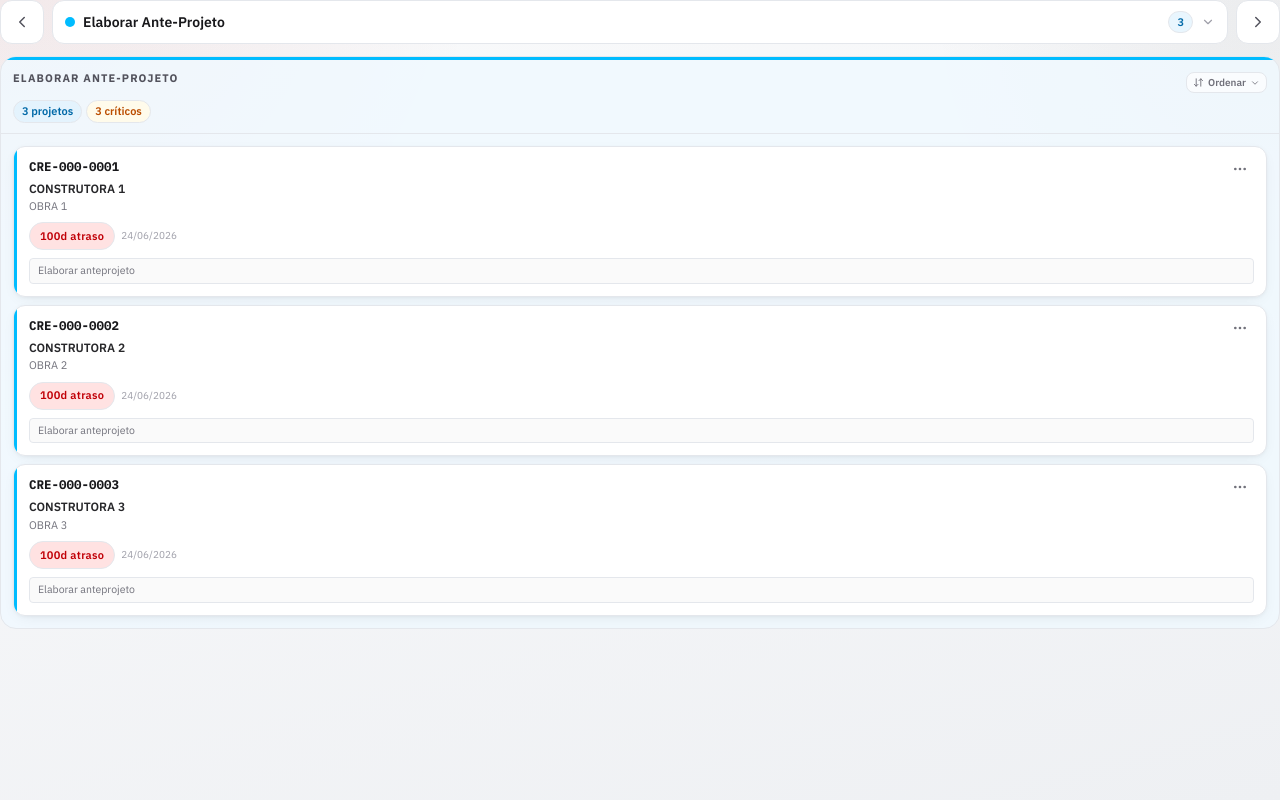
it: Kanban no celular — estados vazios › etapa vazia com projetos em outras: mensagem própria, sem Limpar filtros
The image size is (1280, 800).
Click the button with aria-label "Etapa: ". click: (154, 22)
box: [52,0,1228,44]
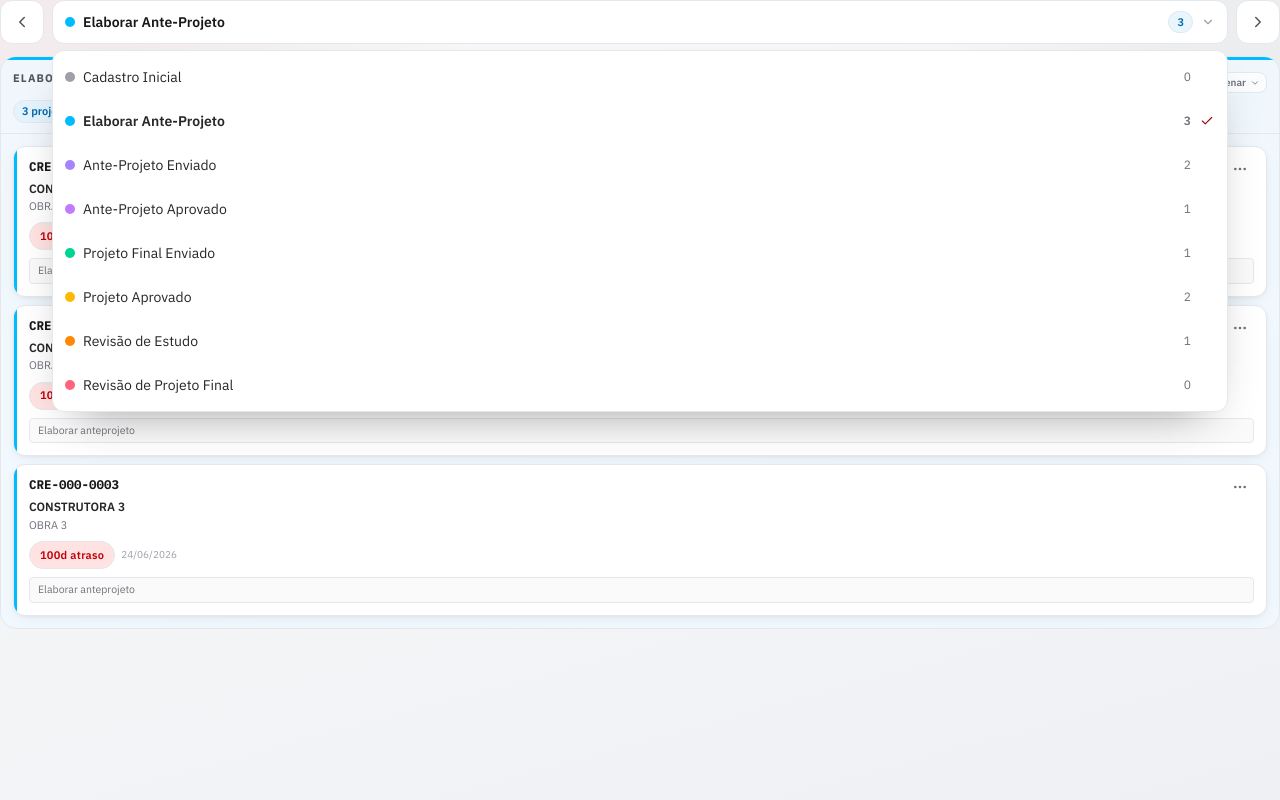
Click the menu item "Cadastro Inicial 0". click: (132, 77)
box: [65,68,1191,86]
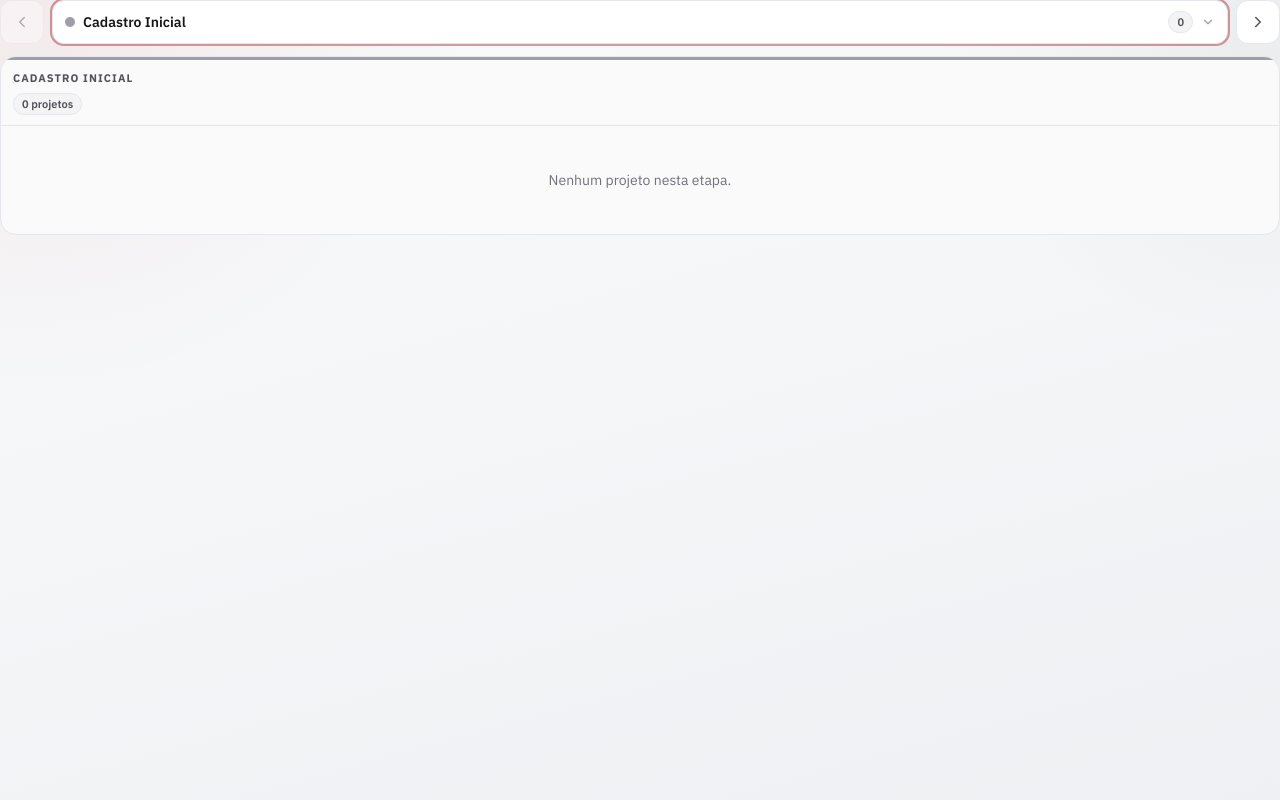
Expected: the text "Nenhum projeto nesta etapa." is shown, [549,171,732,189]
